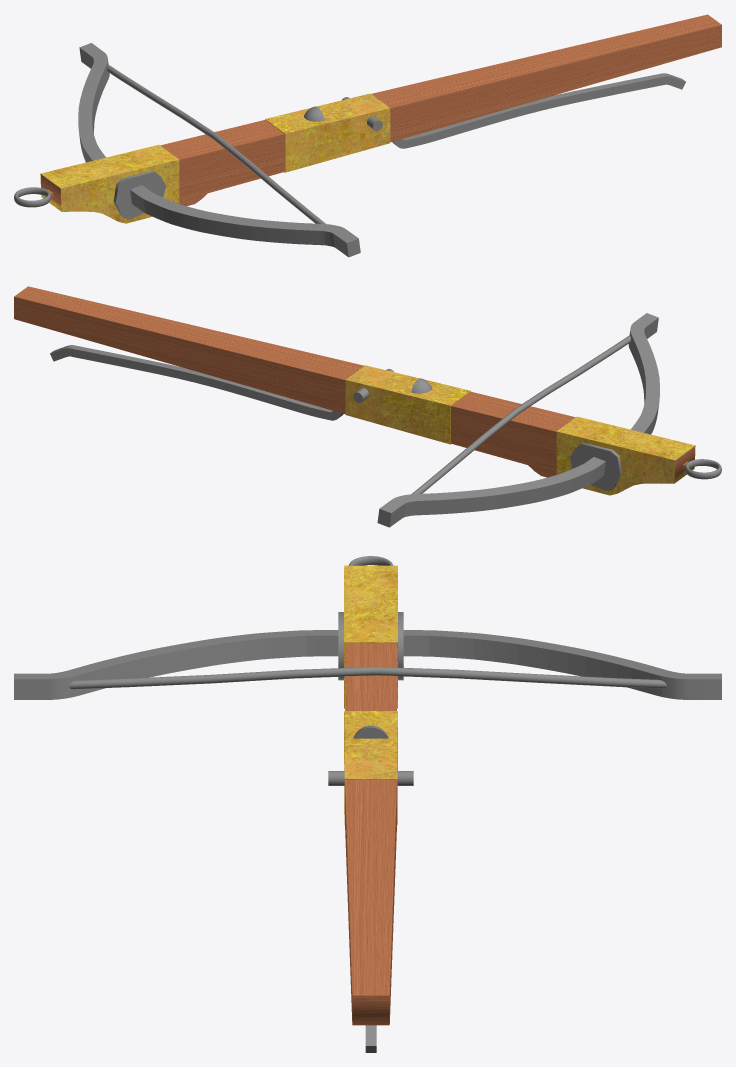
The model's file is blocky crossbow.fbx.
The picture shows the model from 3 angles, top to bottom: view 1: azimuth 30°, elevation 25°; view 2: azimuth 150°, elevation 25°; view 3: azimuth 270°, elevation 25°; orthographic projection. The views are drawn at different scales.
Parts seen in each view (by area): view 1: Cube, Cube_006, Cube_001, Cube_002, Cube_004, Cylinder_001, Cube_003, Torus; view 2: Cube, Cube_006, Cube_001, Cube_002, Cube_004, Cylinder_001, Cube_003, Torus; view 3: Cube_006, Cube, Cylinder_001, Cube_002, Cube_001.
Boxes of the visible parts, left/top/right/bottom form: Cube: left=41, top=14, right=721, bottom=206; Cube_006: left=78, top=43, right=360, bottom=257; Cube_001: left=265, top=93, right=390, bottom=172; Cube_002: left=40, top=144, right=179, bottom=223; Cube_004: left=392, top=73, right=685, bottom=148; Cylinder_001: left=107, top=64, right=326, bottom=224; Cube_003: left=113, top=170, right=166, bottom=219; Torus: left=14, top=187, right=51, bottom=207; Cube: left=14, top=286, right=695, bottom=477; Cube_006: left=377, top=313, right=659, bottom=527; Cube_001: left=345, top=365, right=470, bottom=444; Cube_002: left=556, top=416, right=695, bottom=495; Cube_004: left=50, top=345, right=343, bottom=420; Cylinder_001: left=411, top=335, right=630, bottom=494; Cube_003: left=570, top=442, right=622, bottom=490; Torus: left=684, top=459, right=721, bottom=479; Cube_006: left=14, top=630, right=721, bottom=699; Cube: left=345, top=643, right=396, bottom=1025; Cylinder_001: left=69, top=666, right=666, bottom=689; Cube_002: left=344, top=565, right=397, bottom=708; Cube_001: left=344, top=711, right=397, bottom=825.
Size of the model in its own units: 987 by 93.5 by 654.
Materials: 3 (2 with a texture image).
